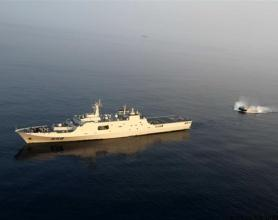warship: (14, 96, 196, 149)
